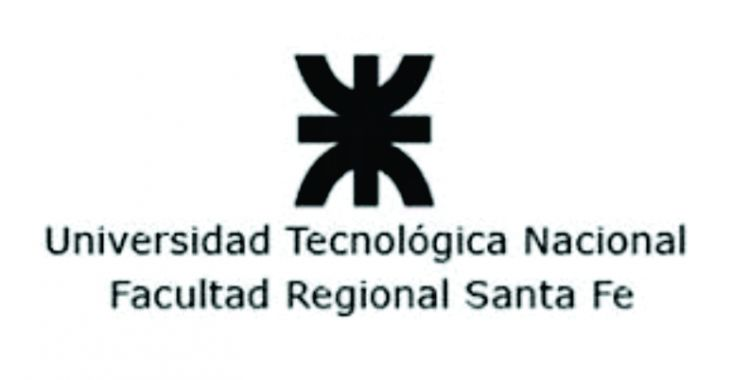utn: (286, 44, 442, 207)
